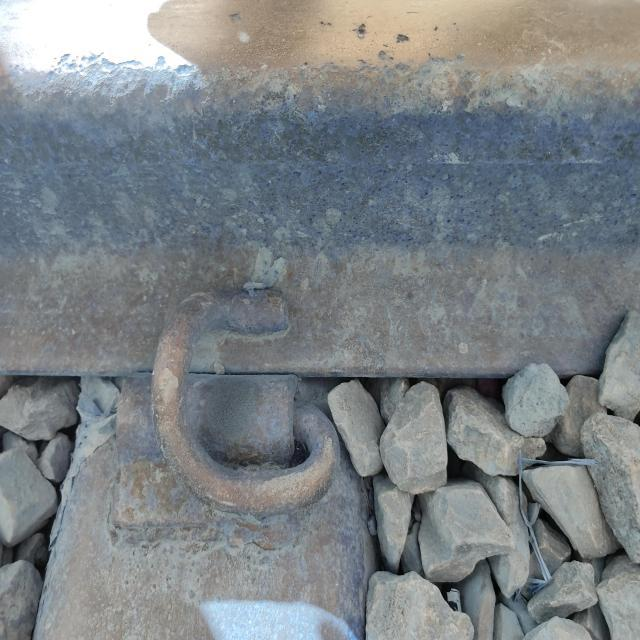Good Fasteners: (74, 247, 360, 563)
